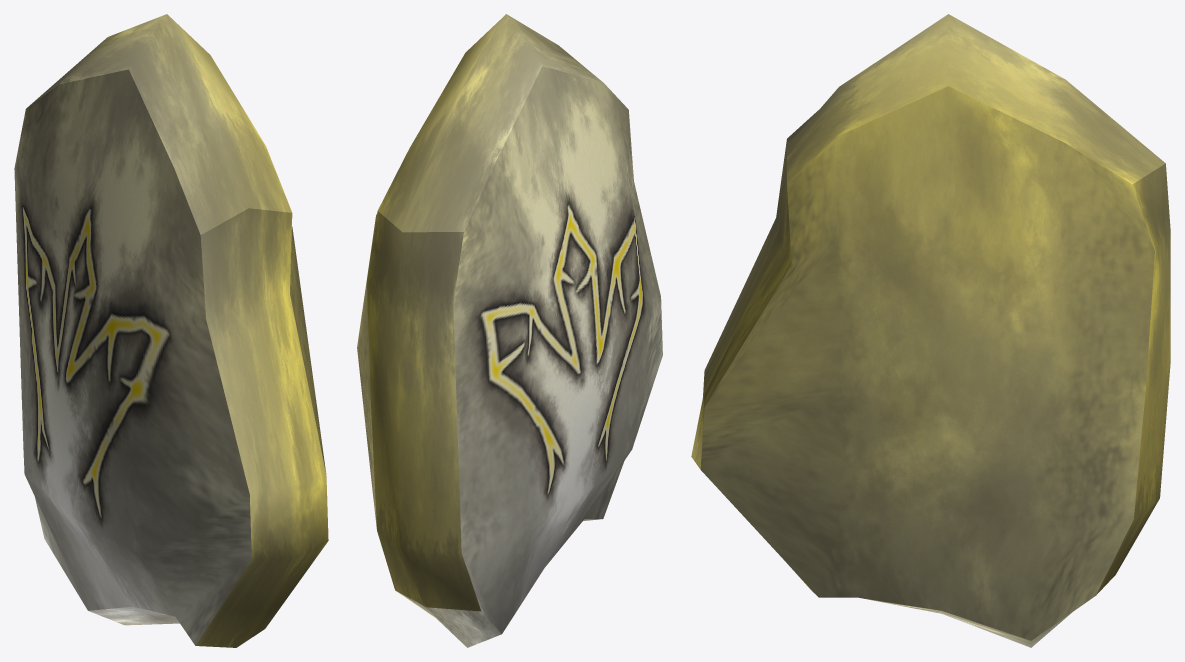
Rendered from Imagi_Rune_Stone.fbx.
3 views of the same model, side by side, from view 1: azimuth 30°, elevation 25°; view 2: azimuth 150°, elevation 25°; view 3: azimuth 270°, elevation 25° (orthographic). The views are drawn at different scales.
Parts seen in each view (by area): view 1: pCube1; view 2: pCube1; view 3: pCube1.
Boxes of the visible parts, bbox=[...] form: pCube1: bbox=[14, 14, 328, 647]; pCube1: bbox=[357, 14, 662, 647]; pCube1: bbox=[691, 14, 1170, 647].
Size of the model in its own units: 1.84 by 5.57 by 3.82.
1 material, 1 textured.
